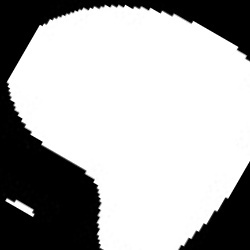crack: (6, 199, 34, 218)
spot: (7, 5, 248, 247)
